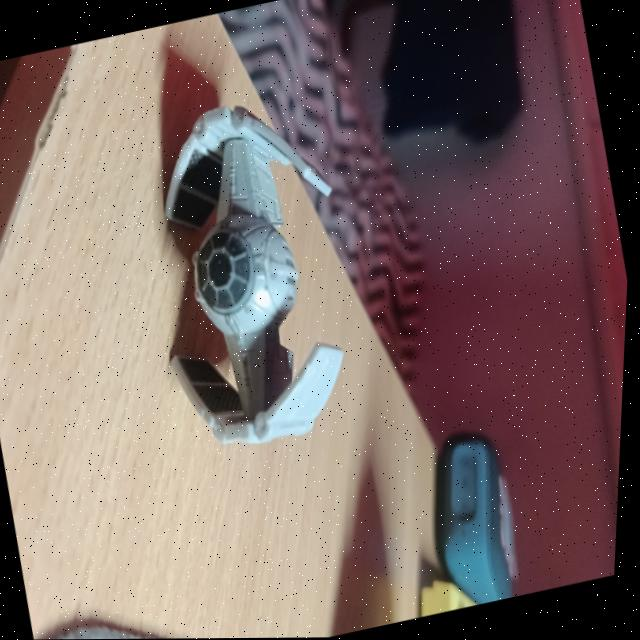tie fighter: (165, 107, 345, 444)
